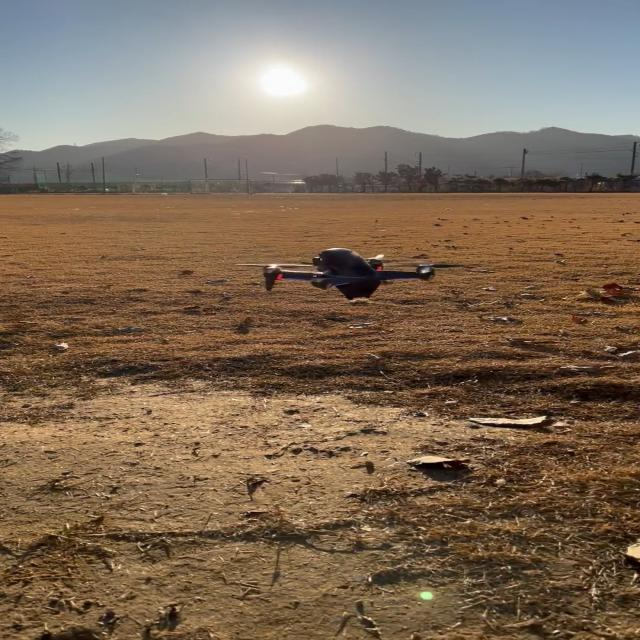drone: (232, 247, 436, 301)
